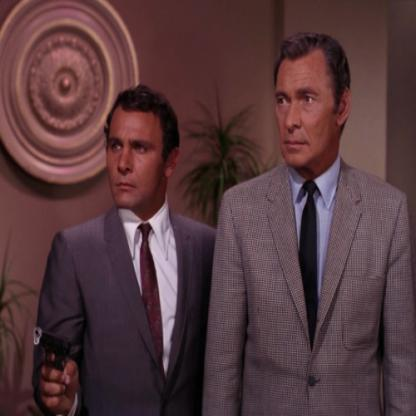Gun: (30, 321, 72, 386)
